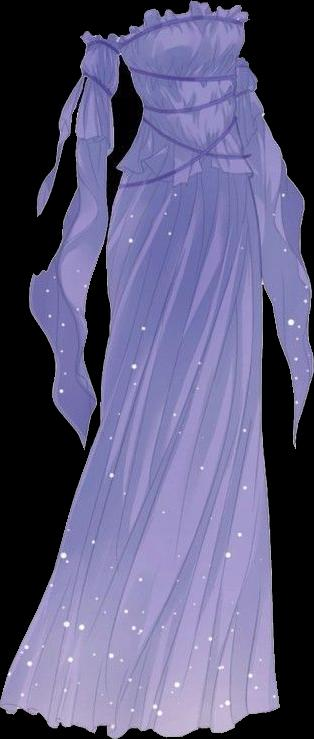Bodice: (115, 1, 251, 187)
Hemline: (0, 699, 283, 738)
Neckline: (115, 0, 248, 42), (127, 65, 237, 87)
Skirt: (0, 153, 279, 737)
Sleeve: (29, 31, 119, 442)
Sleeveline: (80, 27, 128, 57)
Waistline: (114, 146, 251, 193)
